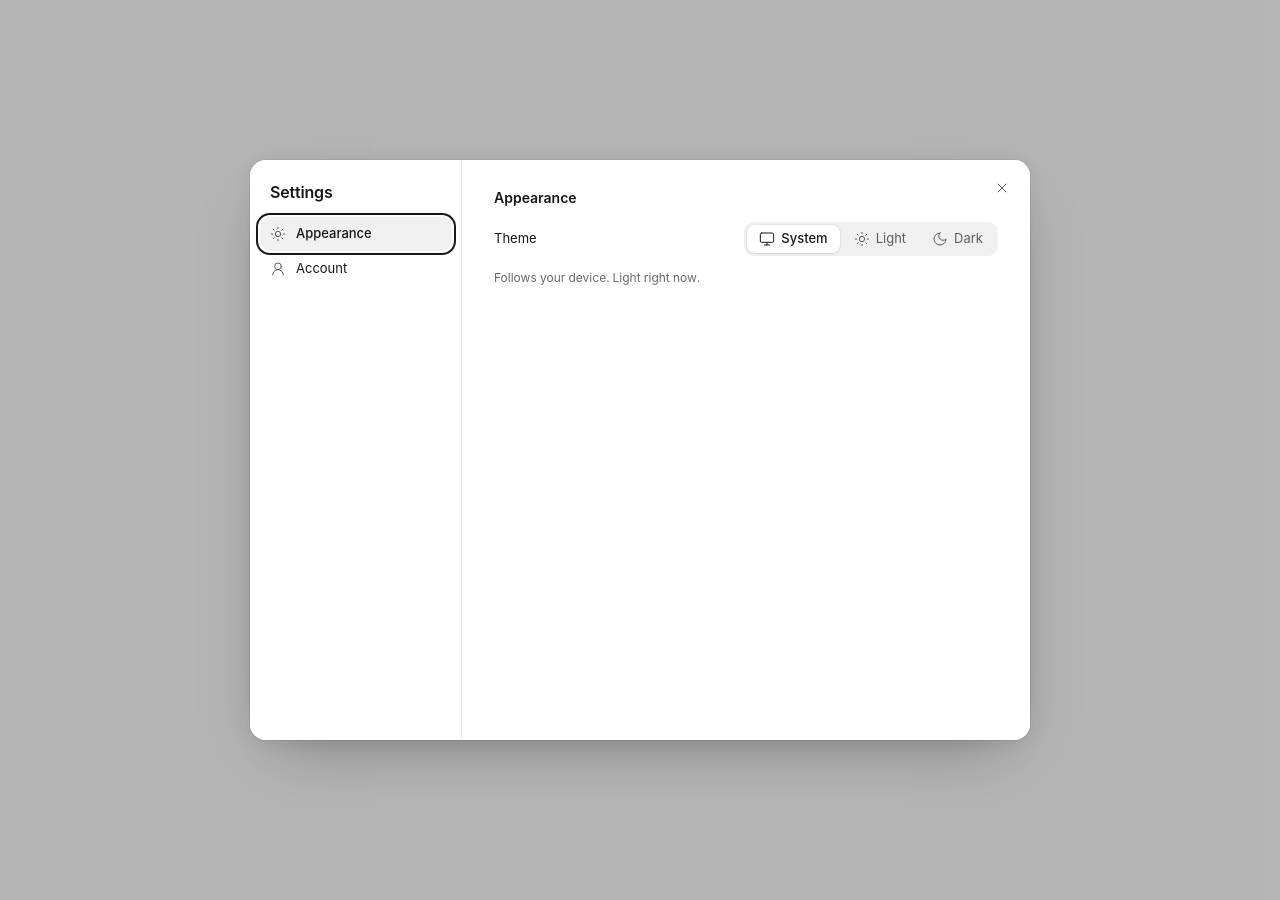
Test case: SettingsDialog › changes the theme and updates the note
What coordinates should you click on to do the following:
click the radio button labelled "Dark"
I would click on:
 (958, 239)
Its box is [920,225,995,253].
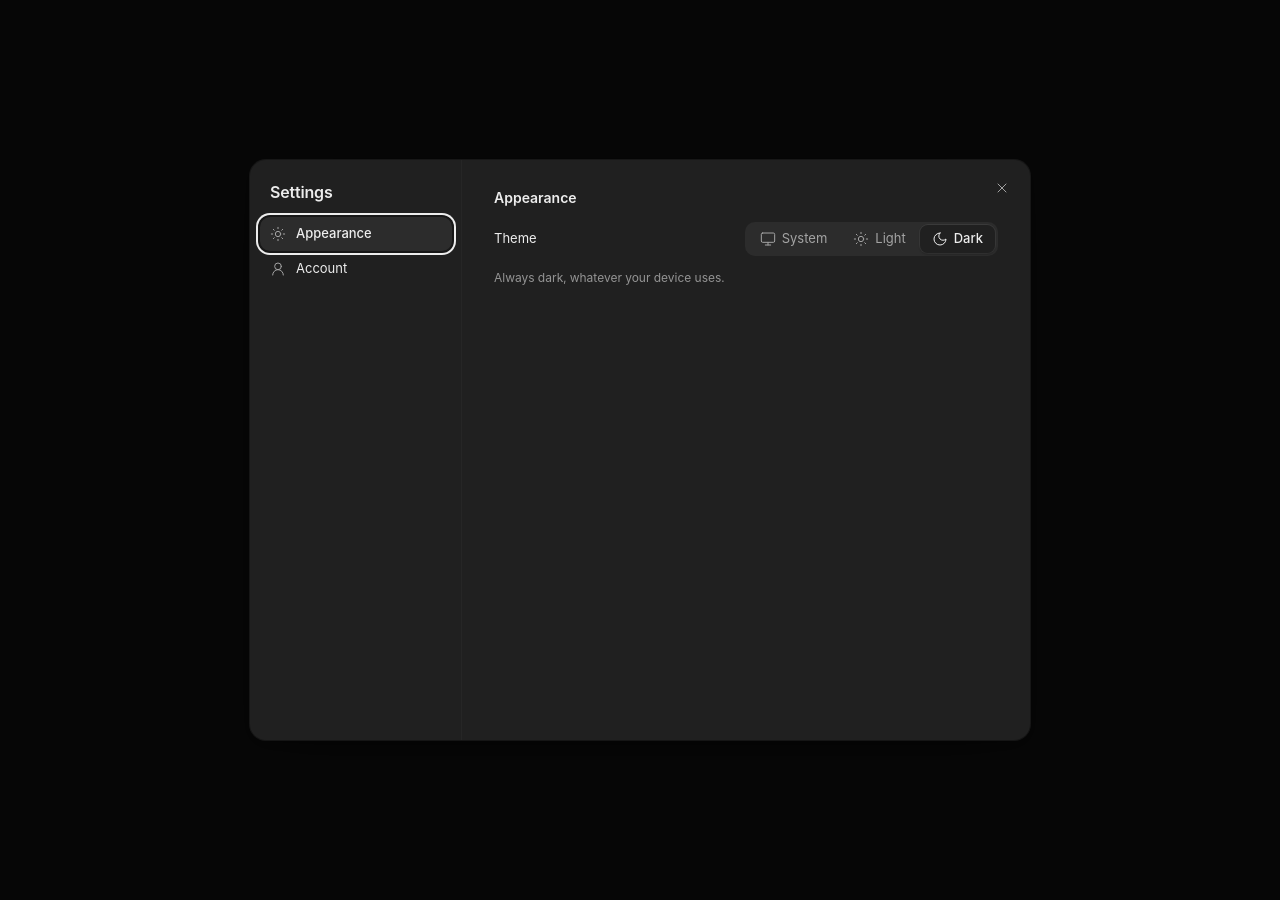
Expected: the text "Always dark, whatever your device uses." is shown, [494,270,724,285]
